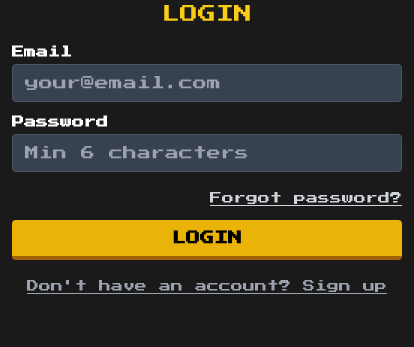
Scenario: AuthScreen › hides forgot password in sign-up mode
Click the button "Don't have an account? Sign up" at (207, 286), box [27, 278, 387, 294]
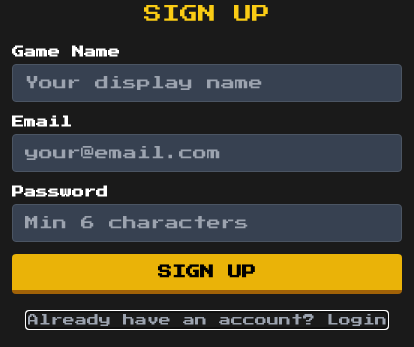
Check: the button "Forgot password" is gone
